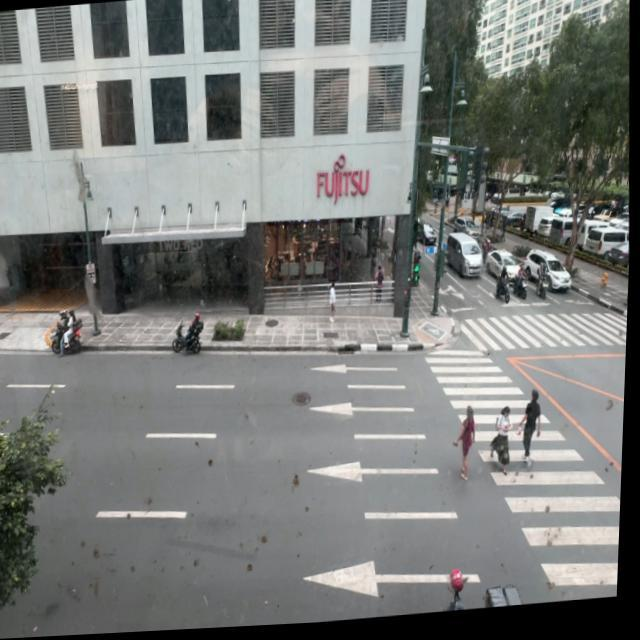jaywalking: (452, 403, 478, 482)
